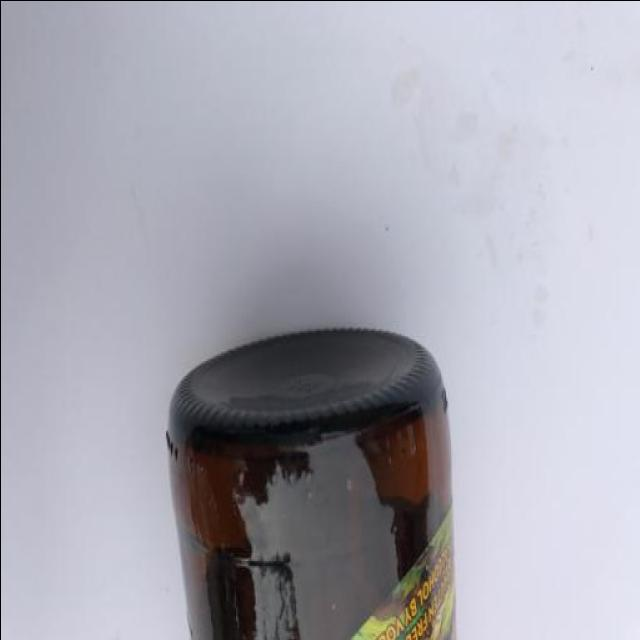glass: (165, 323, 458, 640)
